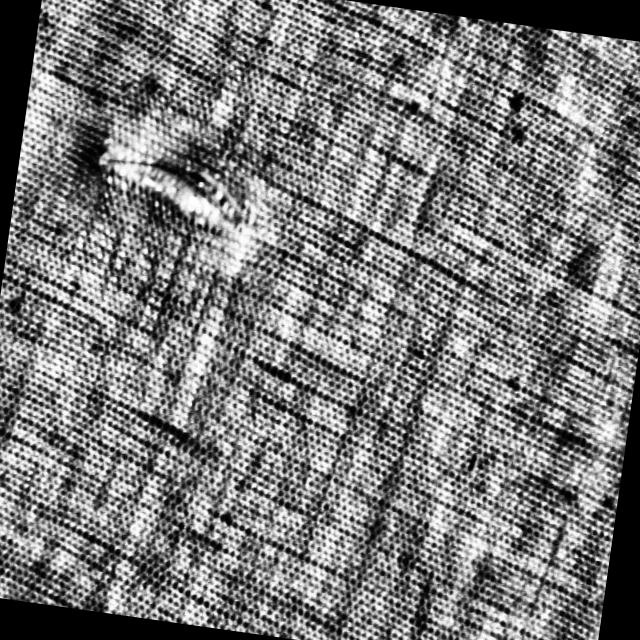gray stitch: (84, 121, 262, 249)
